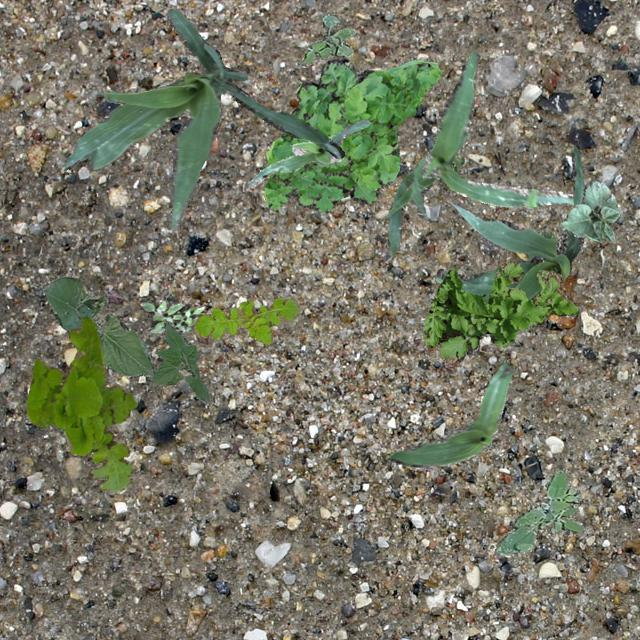crop: (62, 8, 344, 230), (434, 144, 584, 306), (420, 50, 572, 206), (388, 362, 514, 466), (44, 274, 156, 376), (382, 154, 464, 260), (248, 118, 369, 186), (152, 321, 208, 402), (560, 178, 622, 240)
weed: (262, 58, 440, 212), (26, 316, 136, 490), (422, 260, 578, 364), (494, 468, 586, 554), (194, 296, 298, 344), (300, 12, 356, 66), (138, 298, 202, 334)
